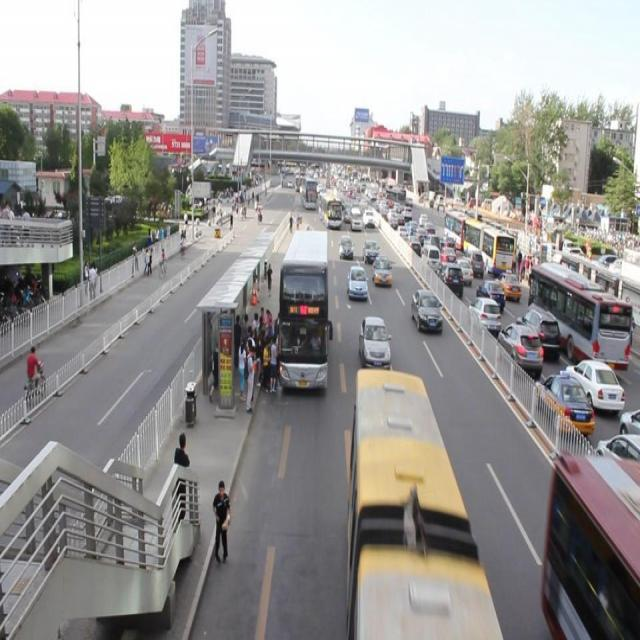car: (346, 364, 499, 640), (540, 406, 640, 640), (278, 218, 328, 405), (533, 265, 639, 351), (346, 292, 409, 394), (578, 341, 615, 404), (408, 286, 443, 342), (551, 365, 582, 423), (314, 185, 344, 242), (512, 322, 540, 370), (358, 190, 388, 233), (470, 296, 498, 340), (497, 254, 519, 301), (354, 242, 368, 306), (372, 254, 394, 292), (480, 274, 502, 310)
